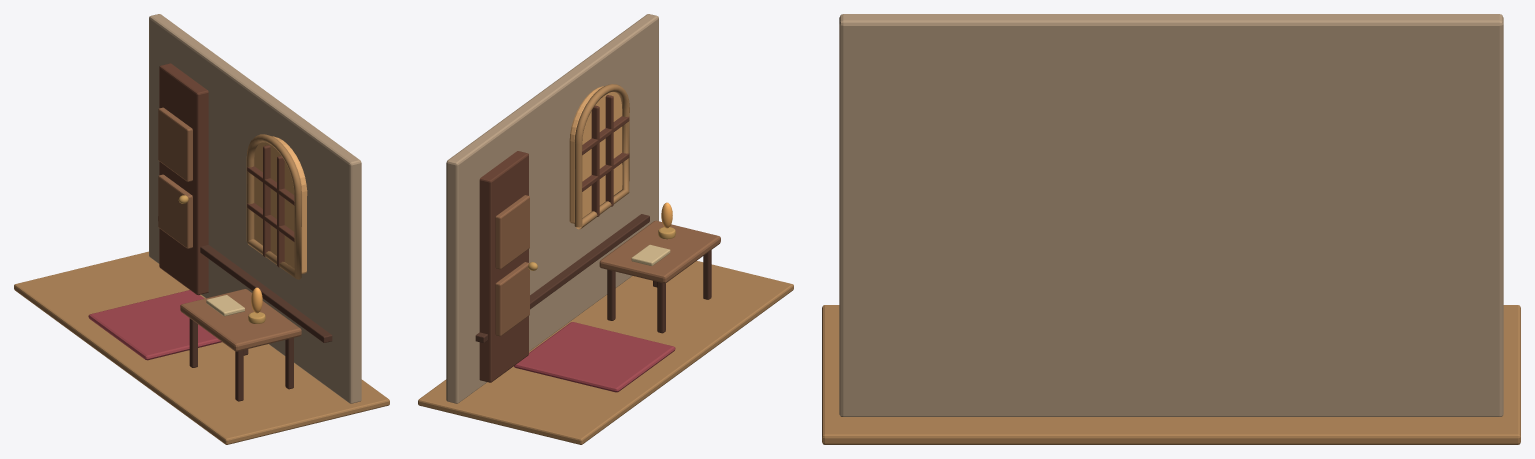
Rendered from SM_Hub_CrimePreview.fbx.
3 renders of one model, left to right at view 1: azimuth 30°, elevation 25°; view 2: azimuth 150°, elevation 25°; view 3: azimuth 270°, elevation 25°, orthographic. The views are drawn at different scales.
Visible parts, largest first — view 1: Plaster room back wall.001_Baked; view 2: Plaster room back wall.001_Baked; view 3: Plaster room back wall.001_Baked.
Part boxes in pixels (x1,y1,x2,y2): Plaster room back wall.001_Baked: [14, 14, 389, 444]; Plaster room back wall.001_Baked: [418, 14, 793, 444]; Plaster room back wall.001_Baked: [822, 14, 1520, 444].
Bounding box in the file's own units: 108 × 242 × 155.
